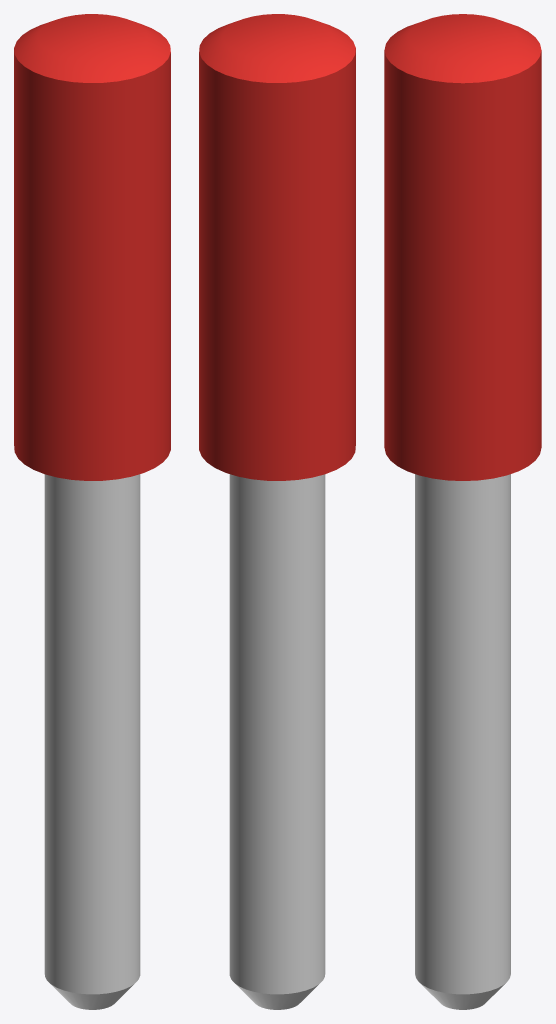
File: RotaNail.fbx
The picture shows the model from 3 angles, left to right: view 1: azimuth 30°, elevation 25°; view 2: azimuth 150°, elevation 25°; view 3: azimuth 270°, elevation 25°; orthographic projection.
Visible parts, largest first — view 1: Cylinder; view 2: Cylinder; view 3: Cylinder.
Boxes of the visible parts, bbox=[...] form: Cylinder: bbox=[14, 14, 170, 1009]; Cylinder: bbox=[199, 14, 355, 1009]; Cylinder: bbox=[384, 14, 541, 1009].
Size of the model in its own units: 111 by 750 by 111.
